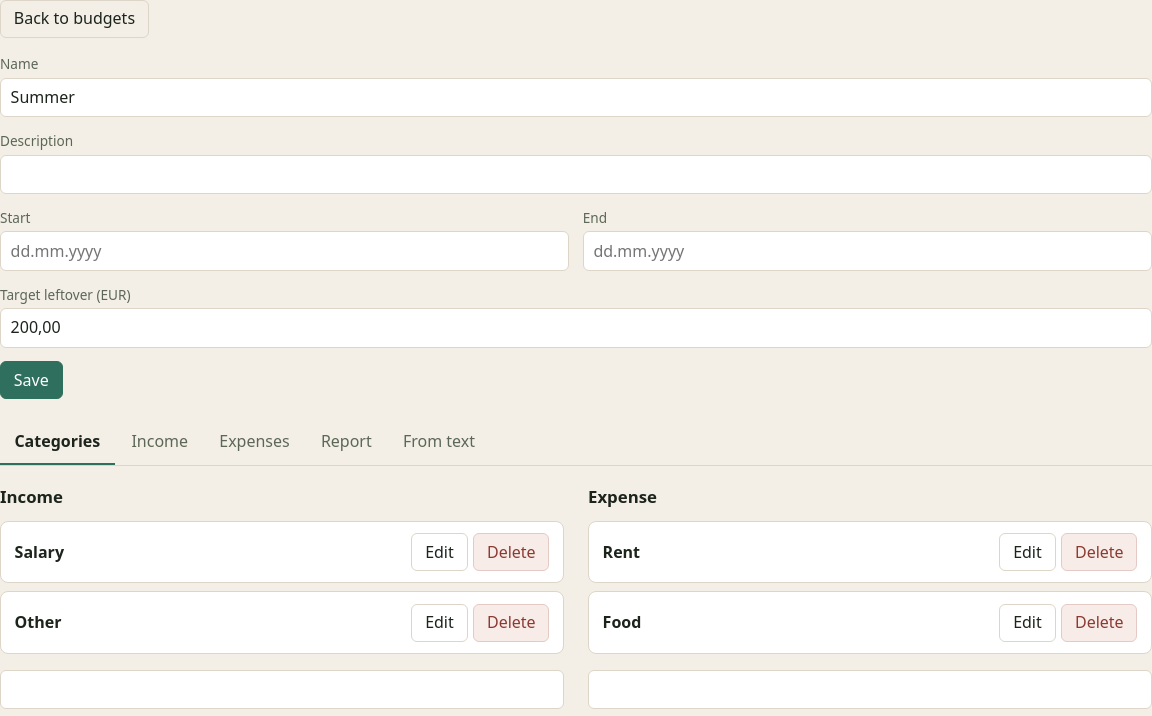
Test: AC7: Report tab formatted totals › AC7: Report tab formatted totals
Click the button "Report" at {"x": 346, "y": 442}, box x1=306 y1=419 x2=386 y2=465
(page scrolled)
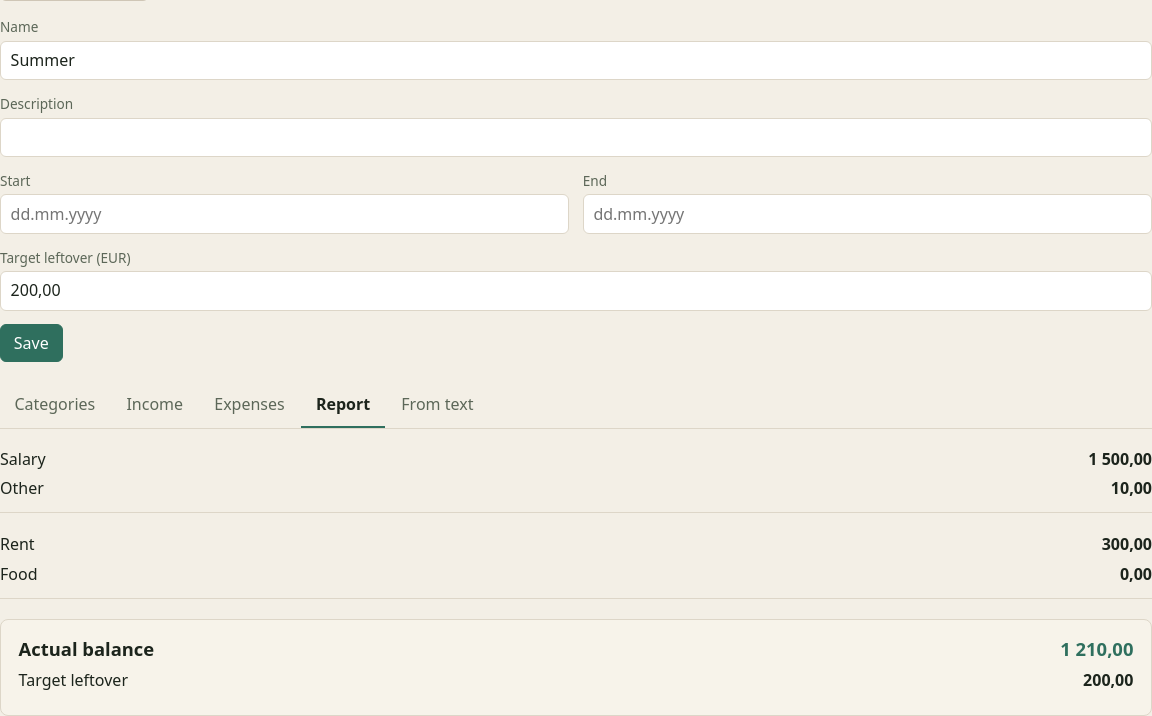
expect the text "1 500,00" is shown: met, box x1=1088 y1=448 x2=1151 y2=471
expect the text "10,00" is shown: met, box x1=1111 y1=477 x2=1151 y2=500
expect the text "300,00" is shown: met, box x1=1102 y1=534 x2=1151 y2=557
